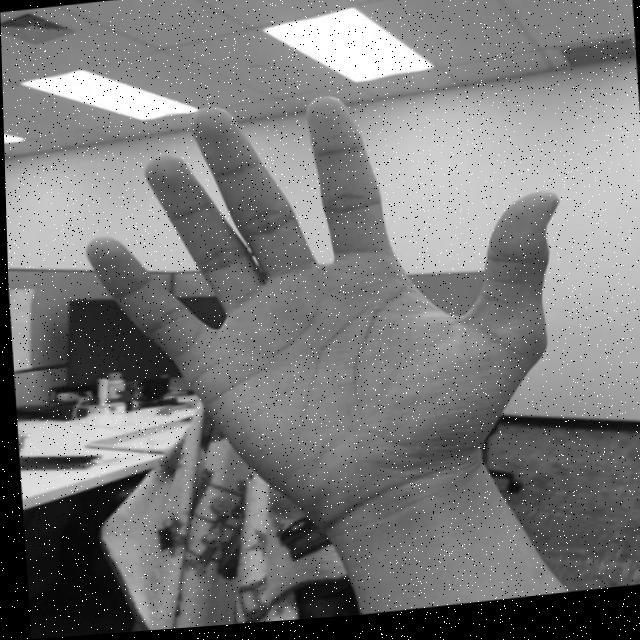no-gloves: (74, 74, 576, 529)
